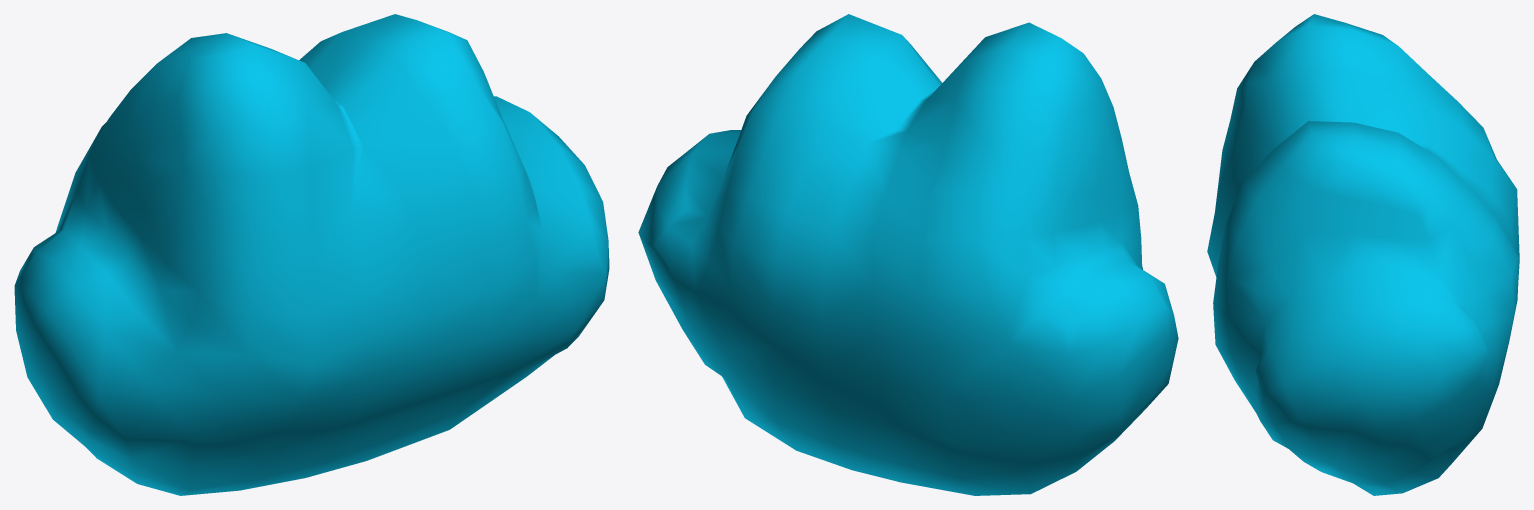
File: Bush_4.fbx
3 renders of one model, left to right at view 1: azimuth 30°, elevation 25°; view 2: azimuth 150°, elevation 25°; view 3: azimuth 270°, elevation 25°, orthographic. The views are drawn at different scales.
Parts seen in each view (by area): view 1: Bush_4_low; view 2: Bush_4_low; view 3: Bush_4_low.
Boxes of the visible parts, bbox=[...] form: Bush_4_low: bbox=[14, 14, 609, 495]; Bush_4_low: bbox=[638, 14, 1178, 495]; Bush_4_low: bbox=[1207, 14, 1519, 495].
Size of the model in its own units: 0.583 by 0.4852 by 0.3487.
